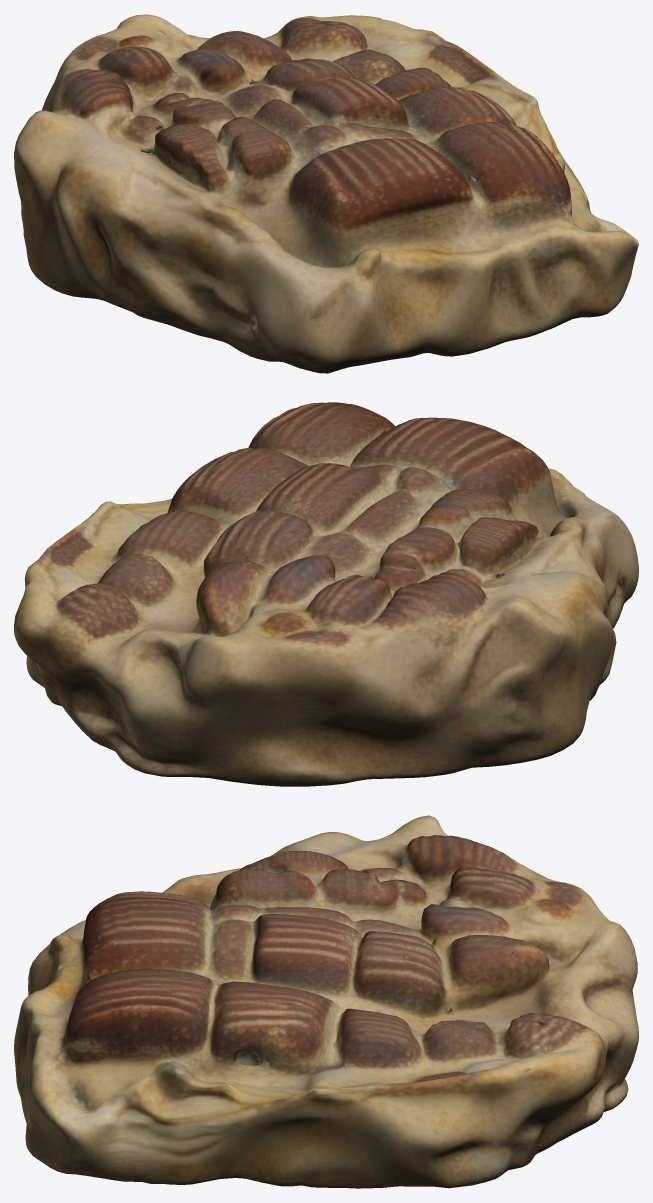
3 views of the same model, one above another, from view 1: azimuth 30°, elevation 25°; view 2: azimuth 150°, elevation 25°; view 3: azimuth 270°, elevation 25° (orthographic). The views are drawn at different scales.
Parts seen in each view (by area): view 1: geometry_0; view 2: geometry_0; view 3: geometry_0.
Boxes of the visible parts, box(x1,y1,x2,y2) form: geometry_0: box(14, 14, 638, 373); geometry_0: box(14, 402, 638, 786); geometry_0: box(14, 815, 638, 1188).
Size of the model in its own units: 0.4134 by 0.1362 by 0.45.
Materials: 1 (1 with a texture image).
